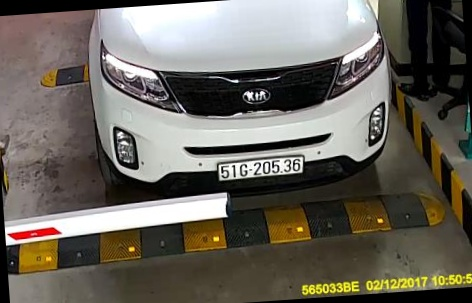plate: (216, 150, 305, 181)
